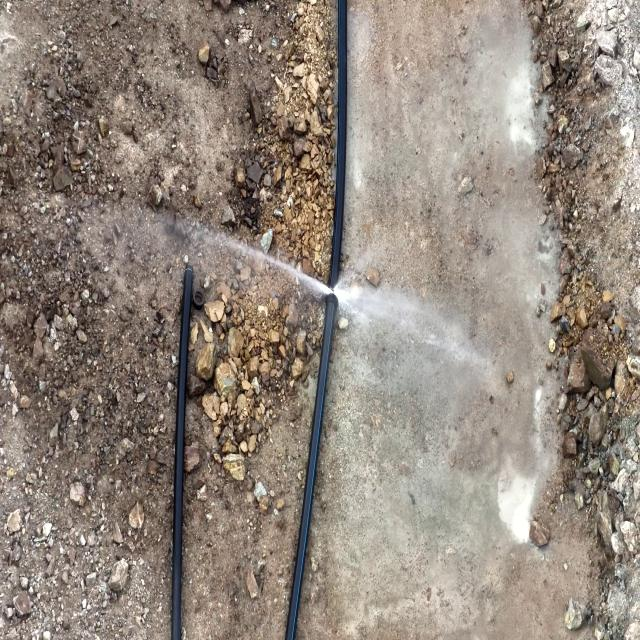leak: (157, 217, 436, 342)
